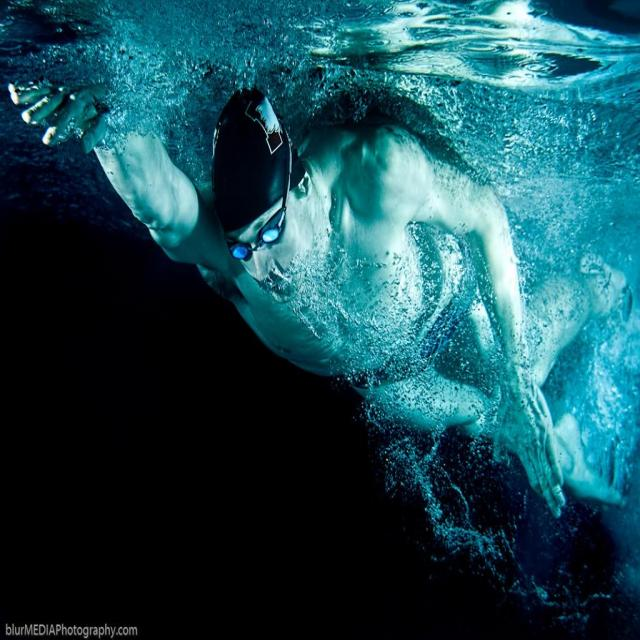nomask: (234, 206, 304, 302)
